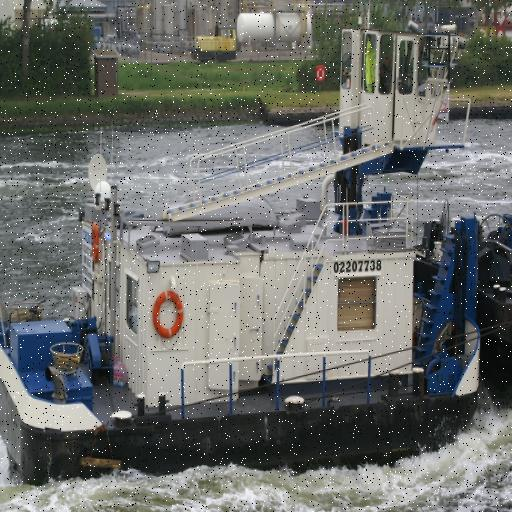tugboat: (1, 1, 498, 500)
